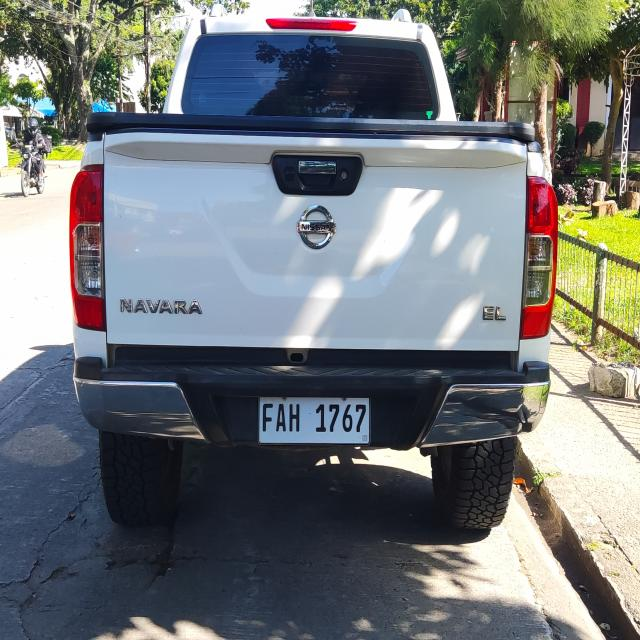plate: (255, 394, 373, 448)
